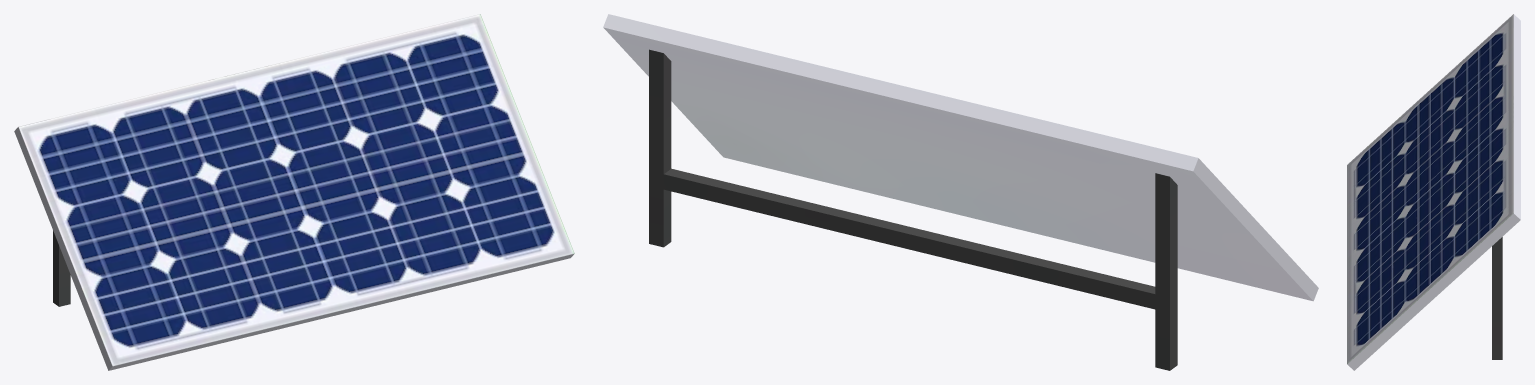
3 views of the same model, side by side, from view 1: azimuth 30°, elevation 25°; view 2: azimuth 150°, elevation 25°; view 3: azimuth 270°, elevation 25° (orthographic). The views are drawn at different scales.
Parts seen in each view (by area): view 1: Lo-太阳能电池板_01; view 2: Lo-太阳能电池板_01; view 3: Lo-太阳能电池板_01.
Part boxes in pixels (left/top/right/bottom): Lo-太阳能电池板_01: left=14, top=14, right=574, bottom=370; Lo-太阳能电池板_01: left=603, top=14, right=1318, bottom=370; Lo-太阳能电池板_01: left=1347, top=14, right=1520, bottom=370.
Bounding box in the file's own units: 3.86 × 1.42 × 1.42.
Materials: 1 (1 with a texture image).
